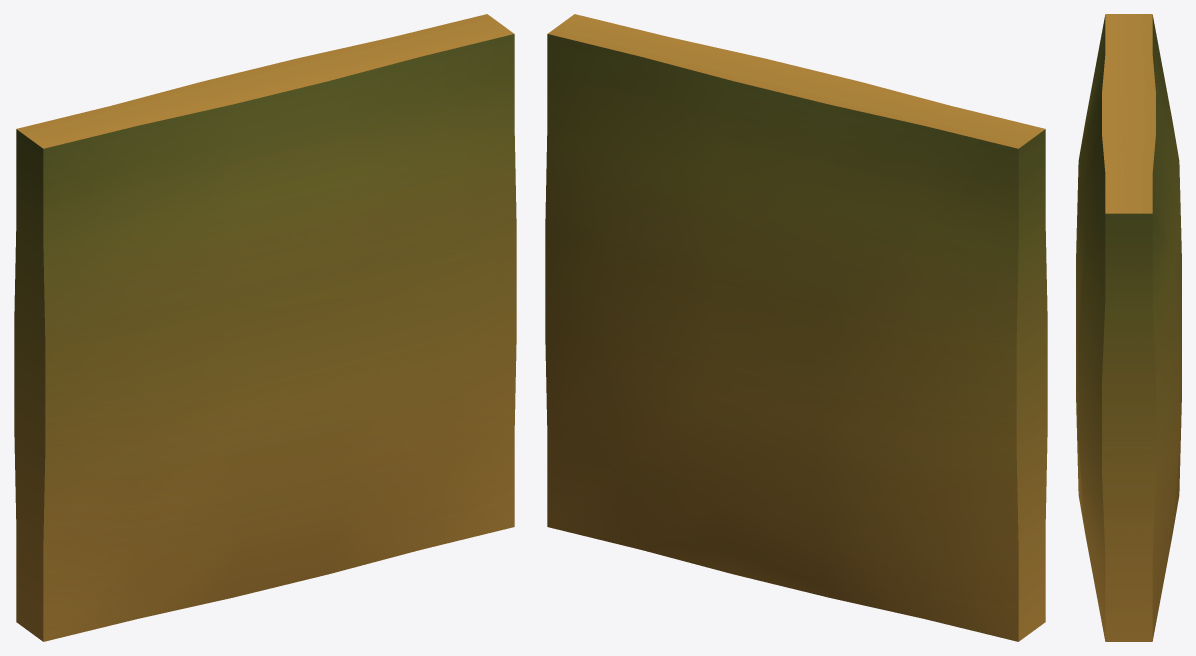
Rendered from Glass.FBX.
3 views of the same model, side by side, from view 1: azimuth 30°, elevation 25°; view 2: azimuth 150°, elevation 25°; view 3: azimuth 270°, elevation 25° (orthographic). The views are drawn at different scales.
Parts seen in each view (by area): view 1: Glass; view 2: Glass; view 3: Glass.
Boxes of the visible parts, left/top/right/bottom form: Glass: left=14, top=14, right=516, bottom=641; Glass: left=545, top=14, right=1047, bottom=641; Glass: left=1076, top=14, right=1181, bottom=641.
Bounding box in the file's own units: 1 × 1 × 0.2239.
1 material, 1 textured.
